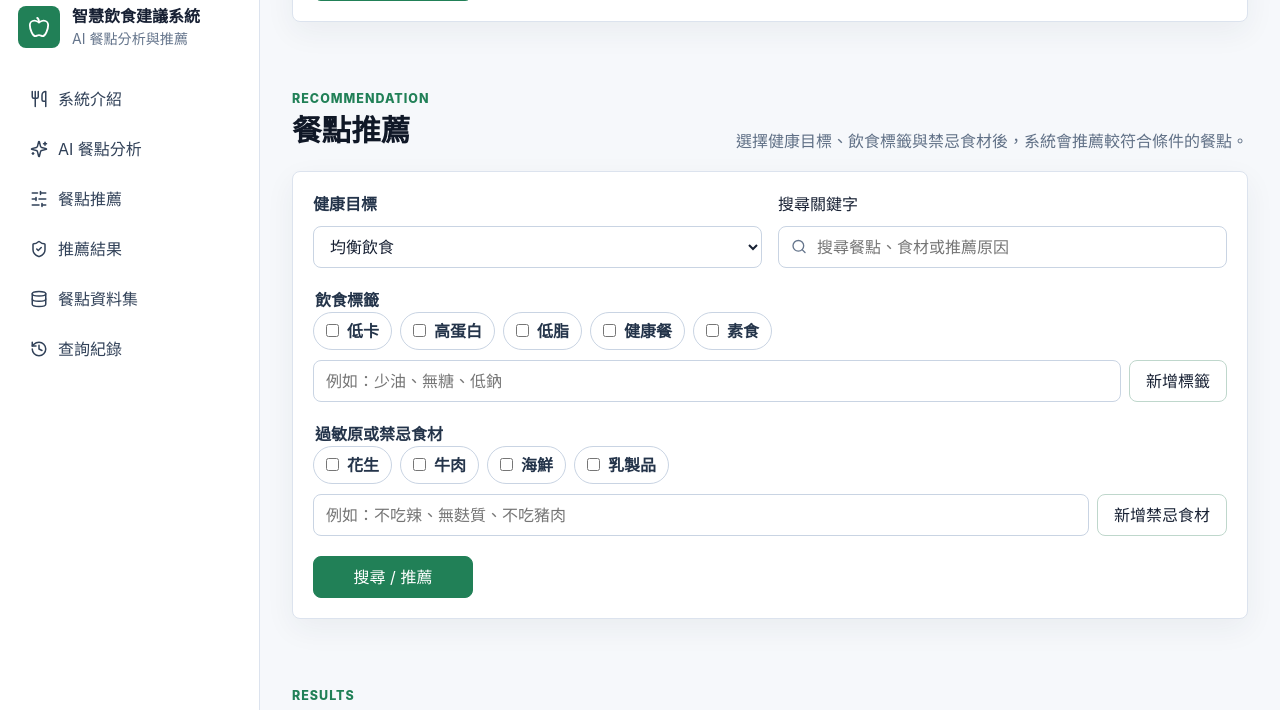
Test: App › rejects blank and duplicate custom diet tags
The width and height of the screenshot is (1280, 710).
(page scrolled)
Click the button "新增標籤": (1178, 381) x1=1129 y1=360 x2=1227 y2=402
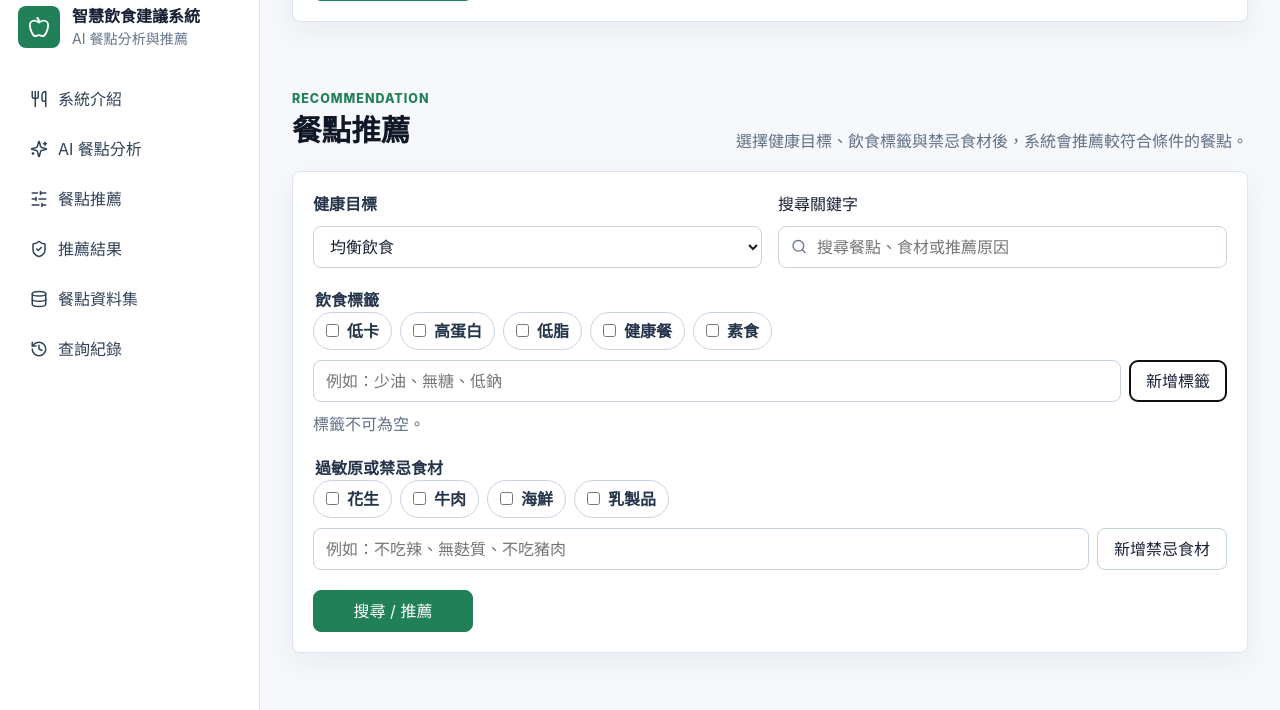
Expected: the text "標籤不可為空。" is shown, x1=313 y1=414 x2=425 y2=434
In the field named "自訂飲食標籤": (717, 381) x1=313 y1=360 x2=1121 y2=402, type "低鈉"
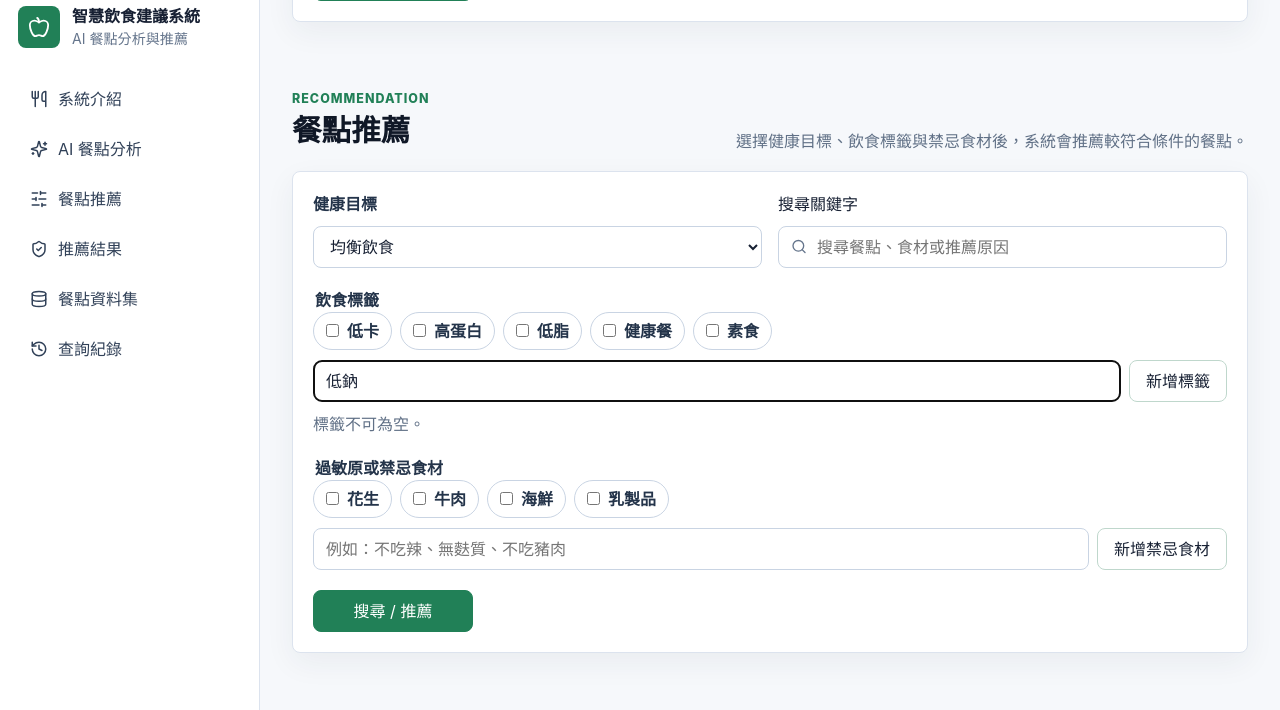
Click the button "新增標籤": (1178, 381) x1=1129 y1=360 x2=1227 y2=402
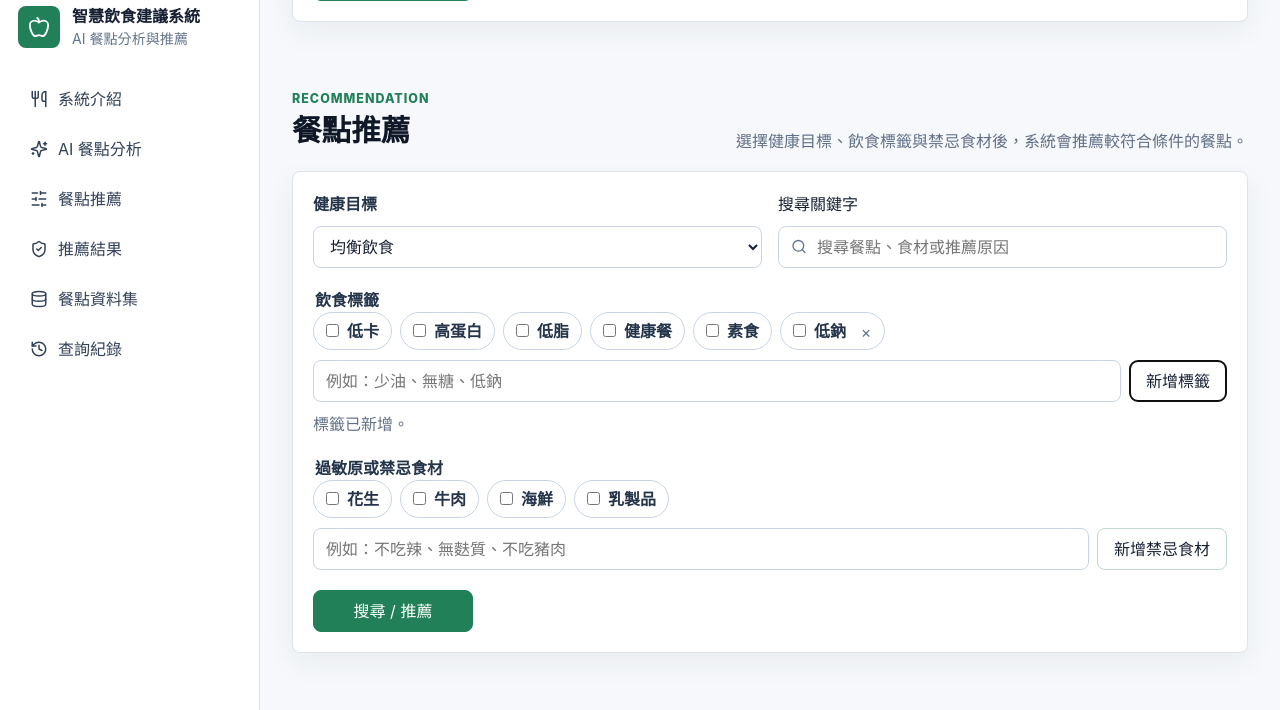
In the field named "自訂飲食標籤": (717, 381) x1=313 y1=360 x2=1121 y2=402, type "低鈉"
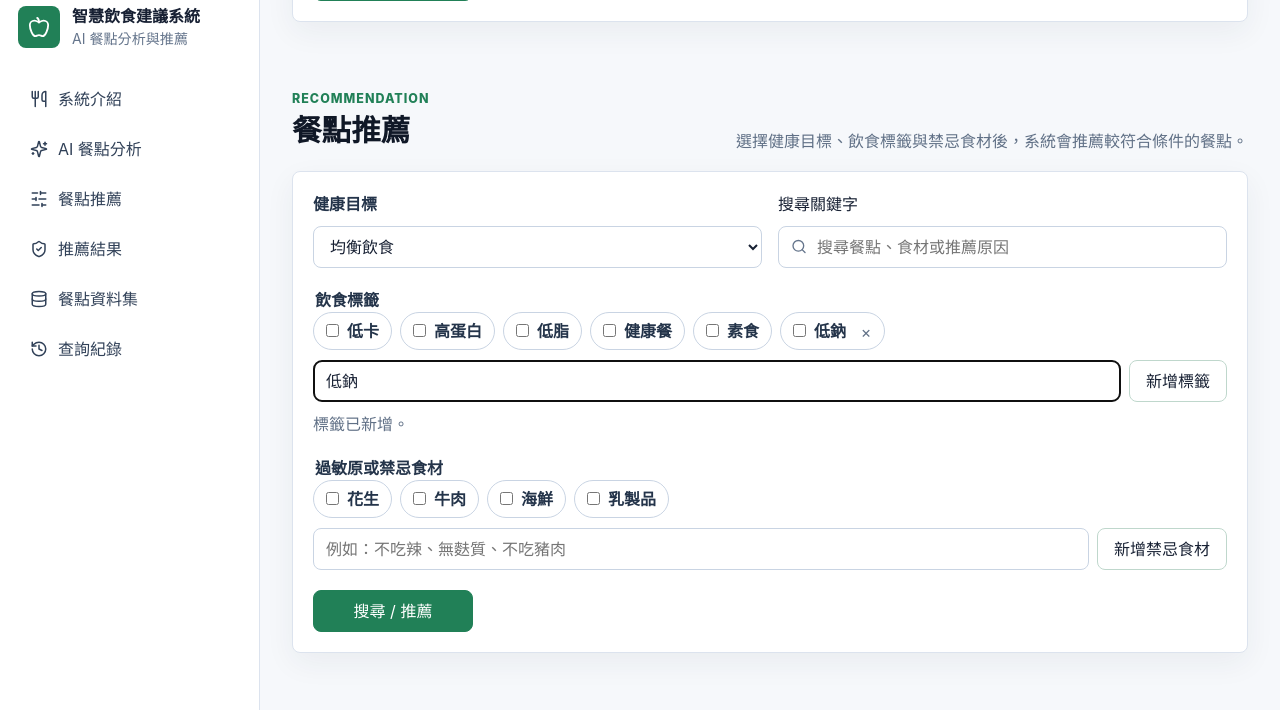
Click the button "新增標籤": (1178, 381) x1=1129 y1=360 x2=1227 y2=402
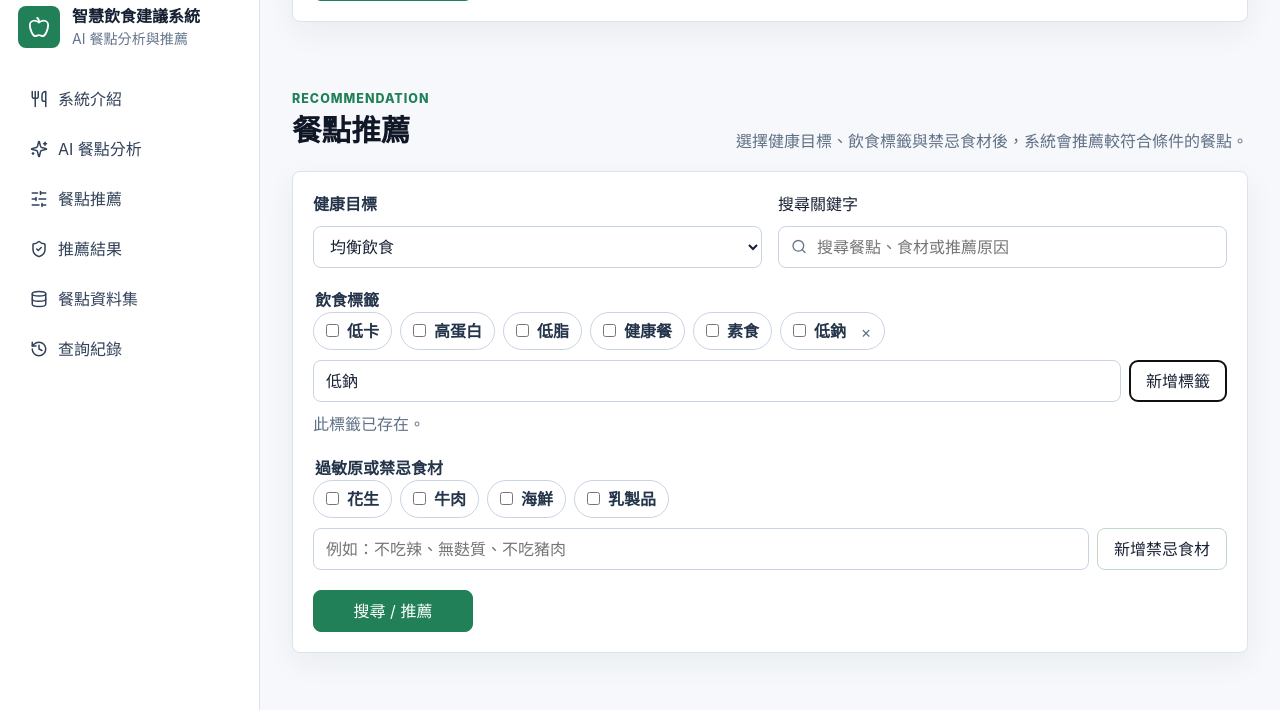
Expected: the text "此標籤已存在。" is shown, x1=313 y1=414 x2=425 y2=434
